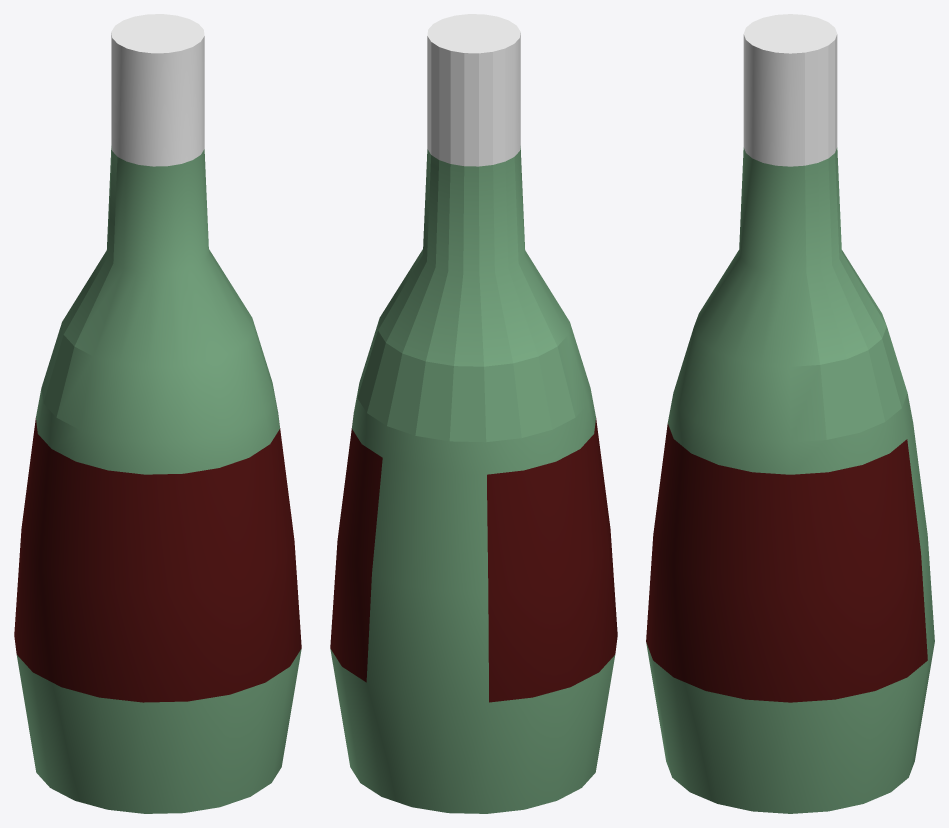
File: bottle01.fbx
3 views of the same model, side by side, from view 1: azimuth 30°, elevation 25°; view 2: azimuth 150°, elevation 25°; view 3: azimuth 270°, elevation 25° (orthographic).
Visible parts, largest first — view 1: bottle01; view 2: bottle01; view 3: bottle01.
Part boxes in pixels (x1,y1,x2,y2): bottle01: (14,14,301,813); bottle01: (330,14,617,813); bottle01: (646,14,934,813).
Size of the model in its own units: 0.5628 by 1.56 by 0.5628.
